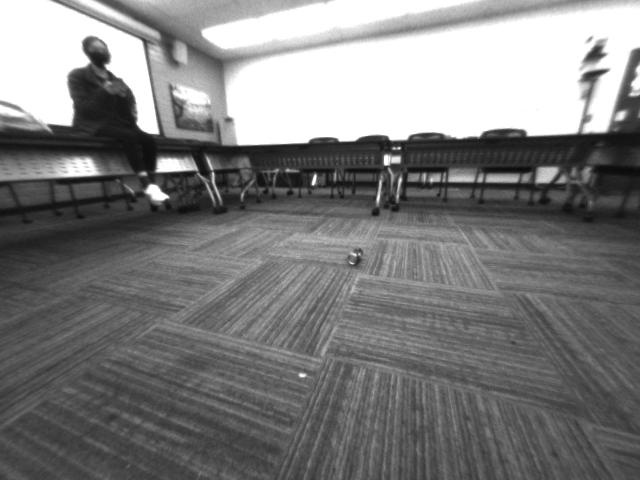can: (341, 244, 374, 267)
